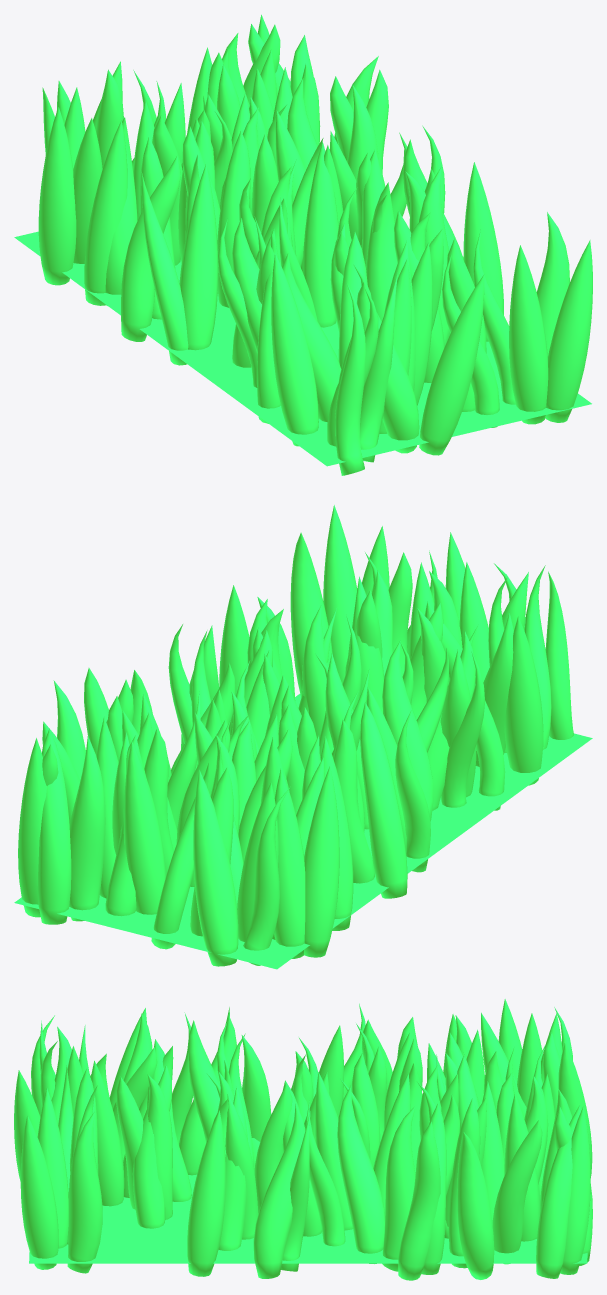
Rendered from small_grass.fbx.
3 views of the same model, one above another, from view 1: azimuth 30°, elevation 25°; view 2: azimuth 150°, elevation 25°; view 3: azimuth 270°, elevation 25° (orthographic). The views are drawn at different scales.
Parts seen in each view (by area): view 1: grass.001, grass.001|grass_strand|Dupli|75, grass.001|grass_strand|Dupli|51, grass.001|grass_strand|Dupli|3, grass.001|grass_strand|Dupli|43, grass.001|grass_strand|Dupli|23, grass.001|grass_strand|Dupli|47, grass.001|grass_strand.002|Dupli|29, grass.001|grass_strand|Dupli|83, grass.001|grass_strand|Dupli|59, grass.001|grass_strand.003|Dupli|66, grass.001|grass_strand.003|Dupli|58 (+62 smaller); view 2: grass.001, grass.001|grass_strand|Dupli|55, grass.001|grass_strand.002|Dupli|29, grass.001|grass_strand|Dupli|23, grass.001|grass_strand|Dupli|67, grass.001|grass_strand.001|Dupli|52, grass.001|grass_strand.002|Dupli|13, grass.001|grass_strand|Dupli|51, grass.001|grass_strand|Dupli|63, grass.001|grass_strand|Dupli|3, grass.001|grass_strand|Dupli|27, grass.001|grass_strand.003|Dupli|10 (+63 smaller); view 3: grass.001, grass.001|grass_strand.001|Dupli|96, grass.001|grass_strand|Dupli|99, grass.001|grass_strand.001|Dupli|, grass.001|grass_strand.001|Dupli|80, grass.001|grass_strand.001|Dupli|64, grass.001|grass_strand|Dupli|3, grass.001|grass_strand.002|Dupli|9, grass.001|grass_strand.002|Dupli|41, grass.001|grass_strand.002|Dupli|53, grass.001|grass_strand.001|Dupli|72, grass.001|grass_strand|Dupli|27 (+65 smaller).
Boxes of the visible parts, x1,y1,x2,y2 form: grass.001: [14, 231, 591, 466]; grass.001|grass_strand|Dupli|75: [419, 274, 484, 455]; grass.001|grass_strand|Dupli|51: [271, 253, 318, 446]; grass.001|grass_strand|Dupli|3: [545, 240, 592, 422]; grass.001|grass_strand|Dupli|43: [179, 164, 218, 350]; grass.001|grass_strand|Dupli|23: [38, 107, 76, 285]; grass.001|grass_strand|Dupli|47: [509, 245, 548, 424]; grass.001|grass_strand.002|Dupli|29: [121, 156, 180, 341]; grass.001|grass_strand|Dupli|83: [302, 142, 338, 327]; grass.001|grass_strand|Dupli|59: [84, 120, 127, 305]; grass.001|grass_strand.003|Dupli|66: [335, 284, 365, 475]; grass.001|grass_strand.003|Dupli|58: [141, 170, 188, 365]; grass.001: [14, 693, 592, 969]; grass.001|grass_strand|Dupli|55: [193, 770, 238, 966]; grass.001|grass_strand.002|Dupli|29: [360, 702, 407, 898]; grass.001|grass_strand|Dupli|23: [304, 766, 339, 957]; grass.001|grass_strand|Dupli|67: [123, 741, 166, 914]; grass.001|grass_strand.001|Dupli|52: [69, 736, 105, 921]; grass.001|grass_strand.002|Dupli|13: [37, 728, 71, 924]; grass.001|grass_strand|Dupli|51: [504, 616, 543, 785]; grass.001|grass_strand|Dupli|63: [274, 769, 305, 958]; grass.001|grass_strand|Dupli|3: [323, 505, 357, 683]; grass.001|grass_strand|Dupli|27: [18, 738, 46, 917]; grass.001|grass_strand.003|Dupli|10: [243, 786, 290, 965]; grass.001: [29, 1174, 587, 1263]; grass.001|grass_strand.001|Dupli|96: [337, 1085, 385, 1263]; grass.001|grass_strand|Dupli|99: [187, 1110, 225, 1276]; grass.001|grass_strand.001|Dupli|: [67, 1111, 102, 1273]; grass.001|grass_strand.001|Dupli|80: [253, 1104, 305, 1278]; grass.001|grass_strand.001|Dupli|64: [457, 1132, 494, 1279]; grass.001|grass_strand|Dupli|3: [20, 1115, 58, 1269]; grass.001|grass_strand.002|Dupli|9: [398, 1121, 440, 1280]; grass.001|grass_strand.002|Dupli|41: [536, 1105, 580, 1278]; grass.001|grass_strand.002|Dupli|53: [492, 1120, 542, 1264]; grass.001|grass_strand.001|Dupli|72: [382, 1105, 415, 1271]; grass.001|grass_strand|Dupli|27: [560, 1106, 590, 1274].
Size of the model in its own units: 0.3553 by 0.2058 by 0.647.
